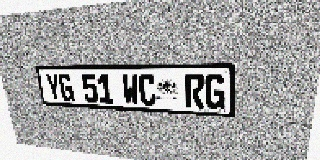1: (96, 74, 113, 104)
5: (81, 74, 99, 103)
C: (138, 74, 157, 106)
G: (205, 74, 226, 109), (58, 73, 75, 102)
R: (185, 74, 204, 108)
W: (121, 74, 140, 105)
Y: (45, 73, 62, 101)
